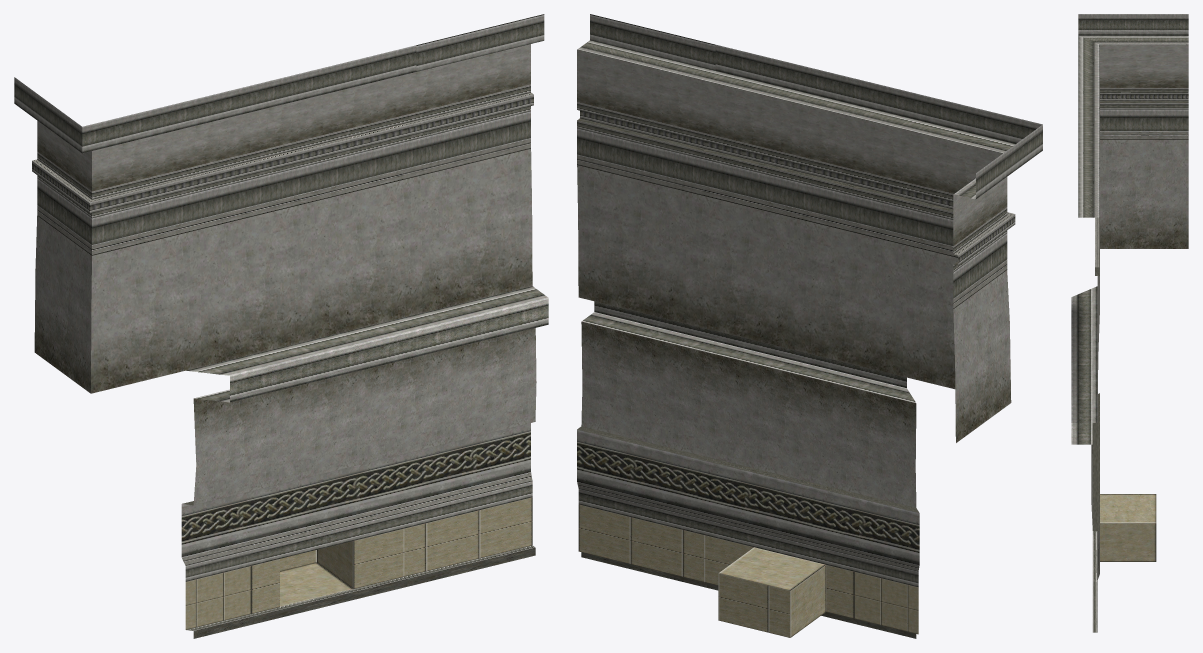
Rendered from DWARF_PALACE_GEAR_ROOM_WALL03B.fbx.
3 views of the same model, side by side, from view 1: azimuth 30°, elevation 25°; view 2: azimuth 150°, elevation 25°; view 3: azimuth 270°, elevation 25° (orthographic). The views are drawn at different scales.
Visible parts, largest first — view 1: DWARF_PALACE_GEAR_ROOM_WALL03B; view 2: DWARF_PALACE_GEAR_ROOM_WALL03B; view 3: DWARF_PALACE_GEAR_ROOM_WALL03B.
Boxes of the visible parts, box(x1,y1,x2,y2) form: DWARF_PALACE_GEAR_ROOM_WALL03B: box(14, 14, 548, 638); DWARF_PALACE_GEAR_ROOM_WALL03B: box(577, 14, 1042, 638); DWARF_PALACE_GEAR_ROOM_WALL03B: box(1071, 14, 1188, 632).
Size of the model in its own units: 180904 by 205001 by 49241.
Materials: 7 (7 with a texture image).
